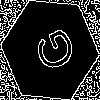G: (25, 25, 78, 79)
